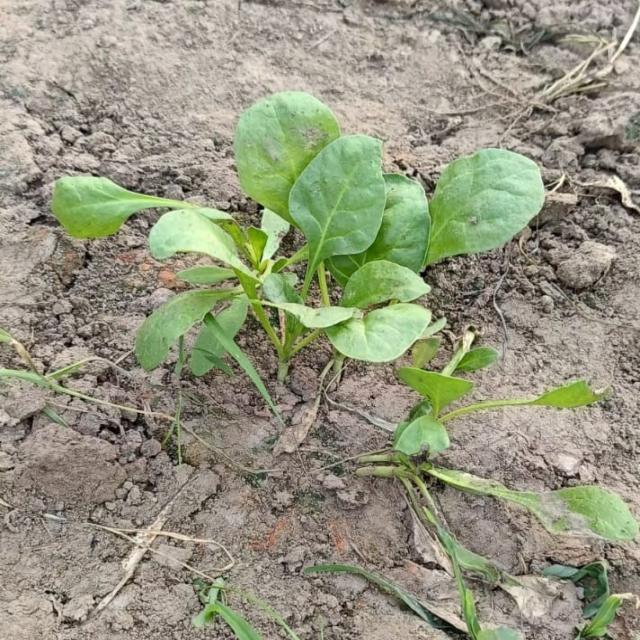plant: (51, 91, 545, 413)
